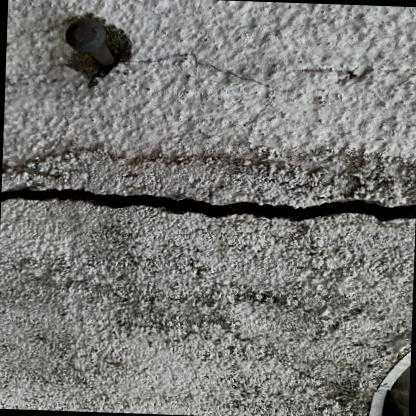crack: (0, 188, 416, 222)
